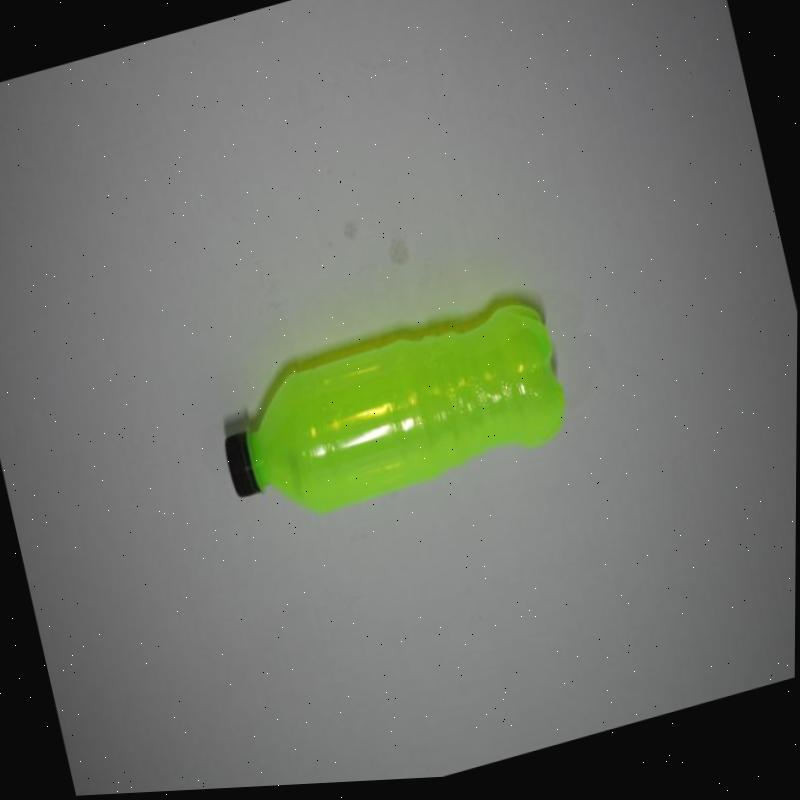botella: (203, 289, 581, 543)
